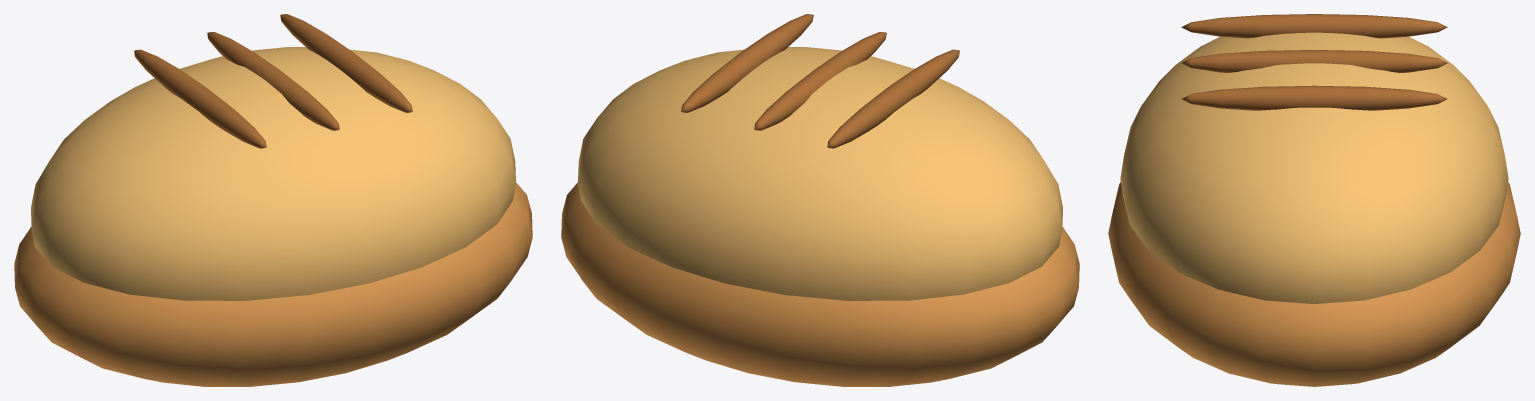
Rendered from bread_cream_unity.glb.
3 views of the same model, side by side, from view 1: azimuth 30°, elevation 25°; view 2: azimuth 150°, elevation 25°; view 3: azimuth 270°, elevation 25° (orthographic).
Parts seen in each view (by area): view 1: Cream bun domed top, Cream bun lower crust, Cream bun score, Cream bun score.002, Cream bun score.001; view 2: Cream bun domed top, Cream bun lower crust, Cream bun score, Cream bun score.002, Cream bun score.001; view 3: Cream bun domed top, Cream bun lower crust, Cream bun score.002, Cream bun score, Cream bun score.001.
Boxes of the visible parts, left/top/right/bottom form: Cream bun domed top: left=31, top=47, right=515, bottom=300; Cream bun lower crust: left=14, top=182, right=532, bottom=386; Cream bun score: left=134, top=49, right=266, bottom=148; Cream bun score.002: left=280, top=14, right=412, bottom=112; Cream bun score.001: left=207, top=32, right=339, bottom=130; Cream bun domed top: left=578, top=47, right=1062, bottom=300; Cream bun lower crust: left=561, top=182, right=1079, bottom=386; Cream bun score: left=827, top=49, right=959, bottom=148; Cream bun score.002: left=681, top=14, right=813, bottom=112; Cream bun score.001: left=754, top=32, right=886, bottom=130; Cream bun domed top: left=1120, top=32, right=1508, bottom=303; Cream bun lower crust: left=1108, top=182, right=1520, bottom=386; Cream bun score.002: left=1181, top=85, right=1447, bottom=110; Cream bun score: left=1181, top=14, right=1447, bottom=38; Cream bun score.001: left=1181, top=50, right=1447, bottom=72.
Size of the model in its own units: 0.92 by 0.512 by 0.68.
